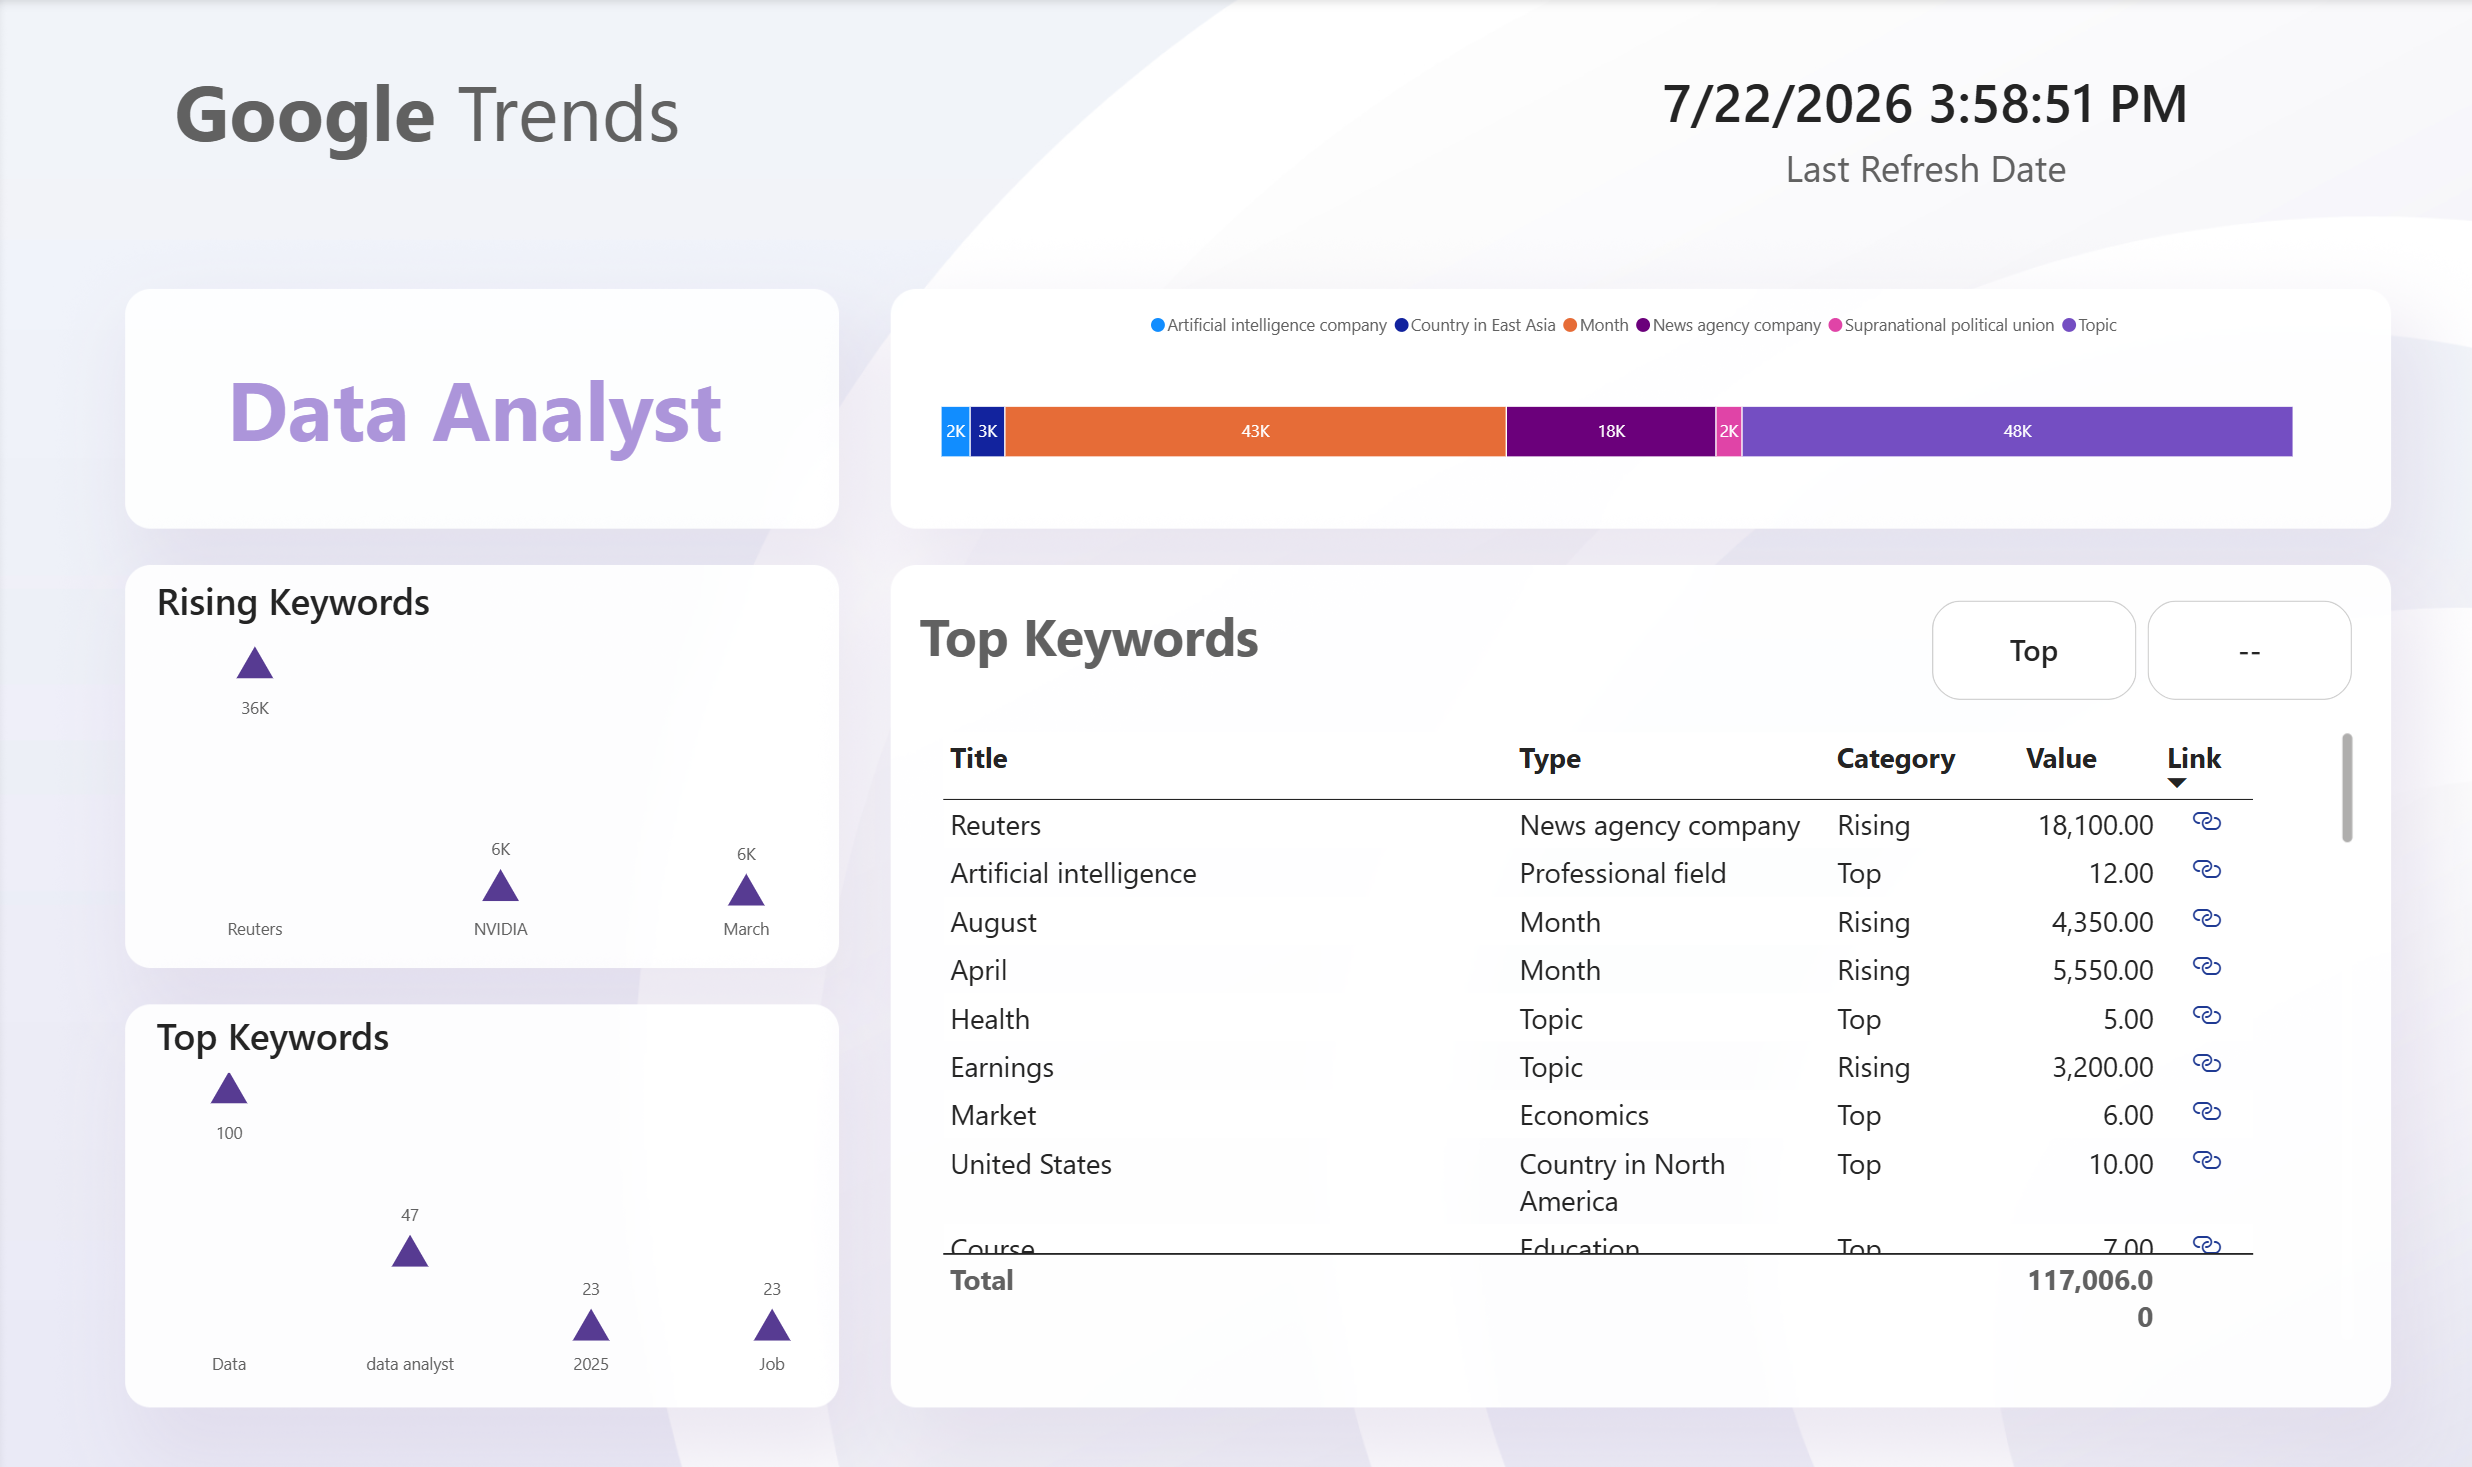

This screenshot's page, from the dashboard's own definition file:
{"tool":"powerbi","page":{"name":"Rising and Top Keywords","canvas":[1920,1080],"ordinal":2},"visuals":[{"type":"card","fields":{"Values":["Min(Related_keywords_main.Keyword)"]},"box":[270,216,398,160],"z":0},{"type":"lineChart","title":"Rising Keywords","fields":{"Category":["Rising_Keywords.Column1.topic.title"],"Y":["Sum(Rising_Keywords.Value)"]},"box":[222,404,530,300],"z":1000},{"type":"lineChart","title":"Top Keywords","fields":{"Y":["Sum(Top_Keywords.Value)"],"Category":["Top_Keywords.Title"]},"box":[222,718,530,300],"z":2000},{"type":"barChart","fields":{"Y":["Sum(Rising_Keywords.Value)"],"Series":["Rising_Keywords.Column1.topic.type"]},"box":[790,208,1038,178],"z":3000},{"type":"advancedSlicerVisual","fields":{"Values":["Top_Keywords.Category"]},"box":[1524,436,304,72],"z":4000},{"type":"tableEx","fields":{"Values":["Rising_Top.Column1.topic.title","Rising_Top.Column1.topic.type","Rising_Top.Category","Sum(Rising_Top.Value)","Rising_Top.Column1.link"]},"box":[790,518,1054,470],"z":5000},{"type":"textbox","box":[790,436,576,82],"z":6000},{"type":"textbox","box":[252,44,520,100],"z":7000},{"type":"card","fields":{"Values":["Min(Refresh_Date.Date)"]},"box":[1118,18,802,150],"z":8000}]}

Visuals, with their boxes on the page's 1920x1080 design canvas (x1, y1, x2, y2). These are canvas units, not pixel positions in the 2472x1467 screenshot, which may show the page scaled, cropped or inside an application window:
card - Min(Related_keywords_main.Keyword): <box>270,216,668,376</box>
"Rising Keywords" lineChart: <box>222,404,752,704</box>
"Top Keywords" lineChart: <box>222,718,752,1018</box>
barChart - Sum(Rising_Keywords.Value) x Rising_Keywords.Column1.topic.type: <box>790,208,1828,386</box>
advancedSlicerVisual - Top_Keywords.Category: <box>1524,436,1828,508</box>
tableEx - Rising_Top.Column1.topic.title x Rising_Top.Column1.topic.type: <box>790,518,1844,988</box>
textbox: <box>790,436,1366,518</box>
textbox: <box>252,44,772,144</box>
card - Min(Refresh_Date.Date): <box>1118,18,1920,168</box>
